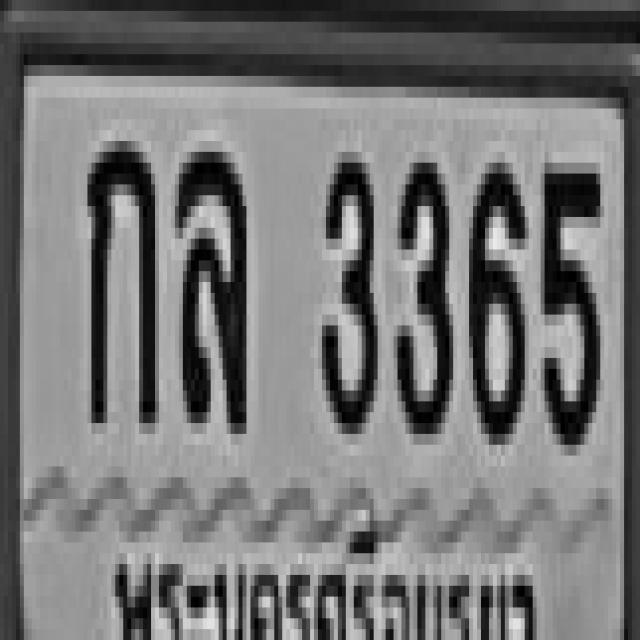10GorGai: (84, 125, 155, 418)
3: (318, 136, 374, 418), (394, 152, 449, 423)
45LorLing: (171, 136, 242, 418)
5: (537, 146, 596, 440)
6: (465, 152, 521, 434)
Ayutthaya: (111, 499, 549, 640)
